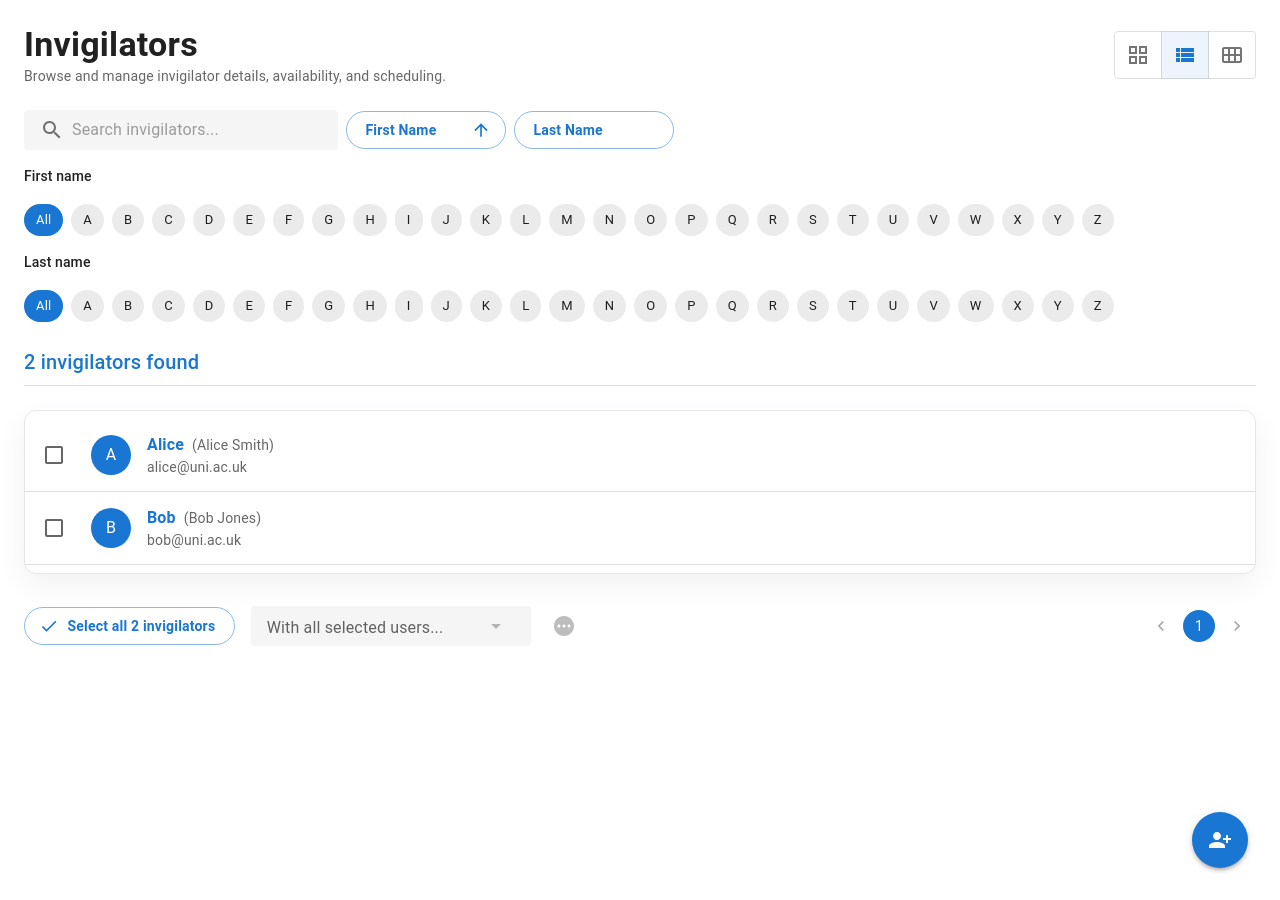
Test: AdminInvigilators › renders list view and filters by search
Expected: the link "Alice" is shown, 147,435 -> 184,454
Expected: the link "Bob" is shown, 147,508 -> 176,527
Step 1. Type "Alice" into the field with placeholder "Search invigilators..." → (197, 130), box 72,114 -> 322,146
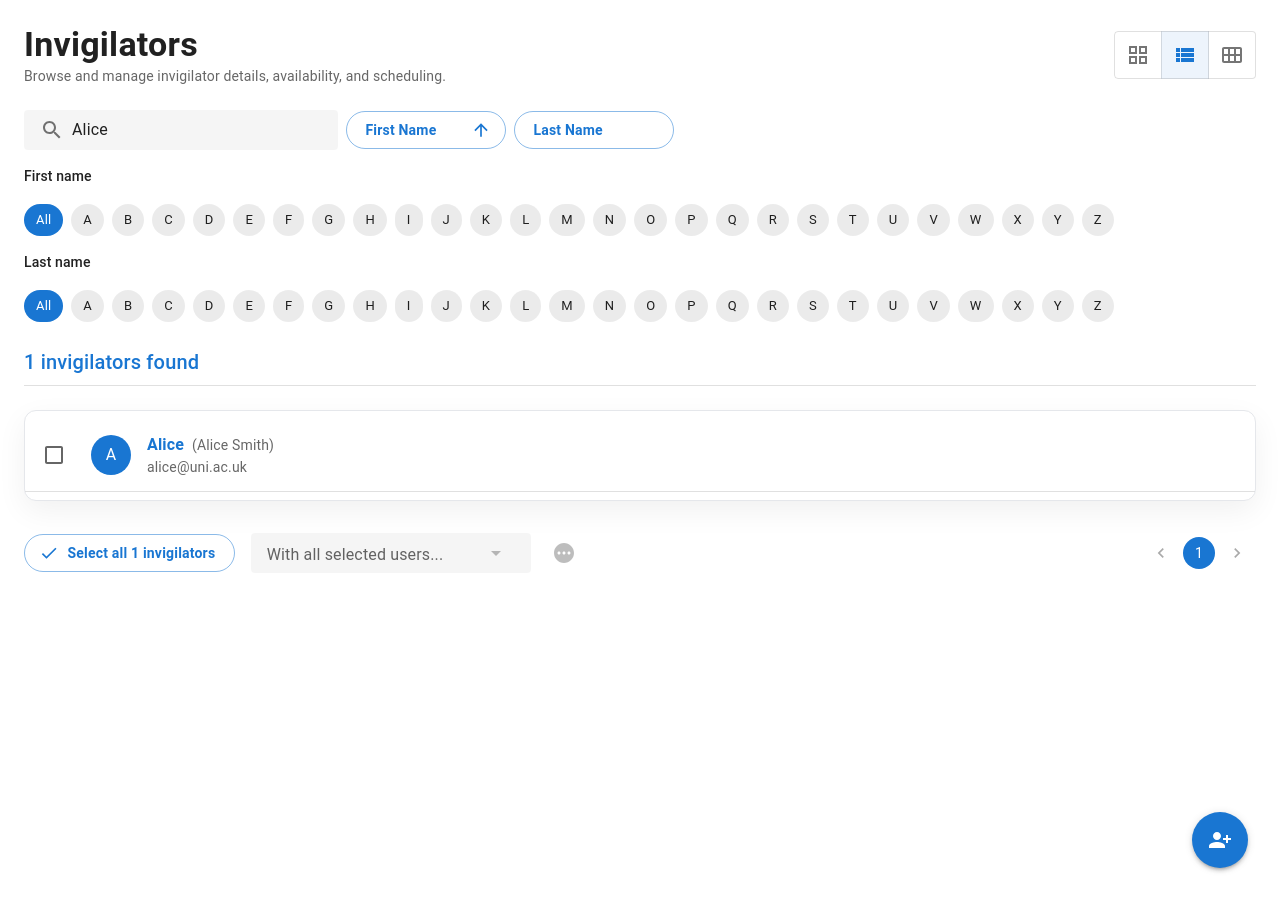
Expected: the heading "1 invigilators found" is shown, 24,350 -> 199,374
Expected: the link "Bob" is gone
